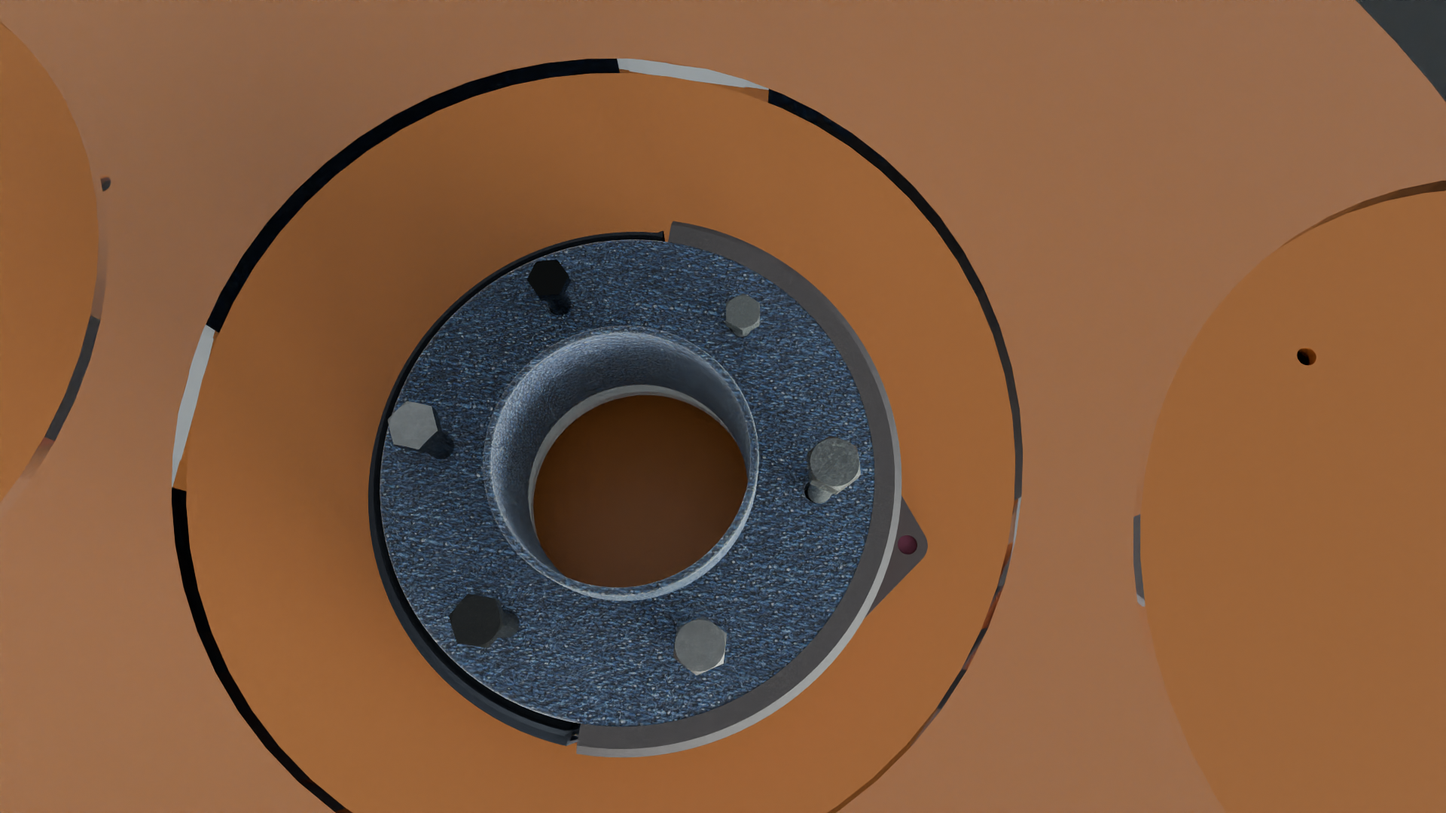bolt: (673, 616, 727, 675), (808, 436, 861, 491), (449, 594, 504, 647), (388, 401, 438, 449), (527, 260, 569, 296), (726, 294, 760, 330)
